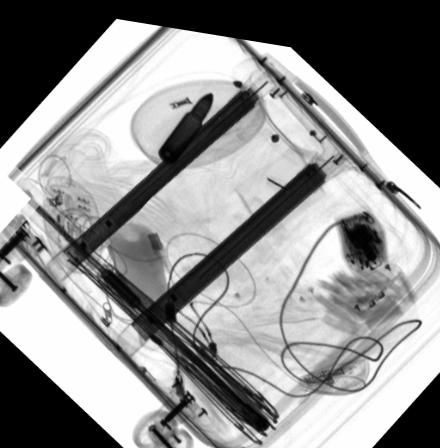Bullet: (157, 83, 212, 159)
